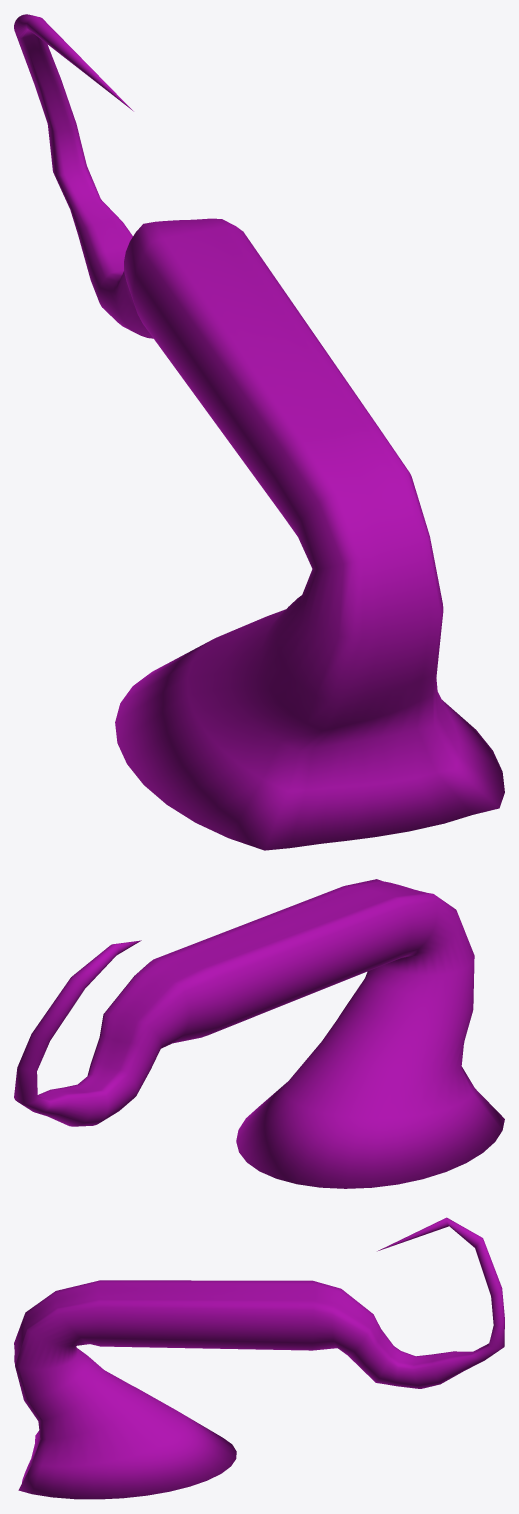
Rendered from Plataforma03.fbx.
The picture shows the model from 3 angles, top to bottom: view 1: azimuth 30°, elevation 25°; view 2: azimuth 150°, elevation 25°; view 3: azimuth 270°, elevation 25°; orthographic projection. The views are drawn at different scales.
Parts seen in each view (by area): view 1: Cylinder; view 2: Cylinder; view 3: Cylinder.
Boxes of the visible parts, x1,y1,x2,y2 form: Cylinder: (14,14,504,850); Cylinder: (14,879,504,1188); Cylinder: (14,1217,504,1499).
Bounding box in the file's own units: 124 × 198 × 333.
